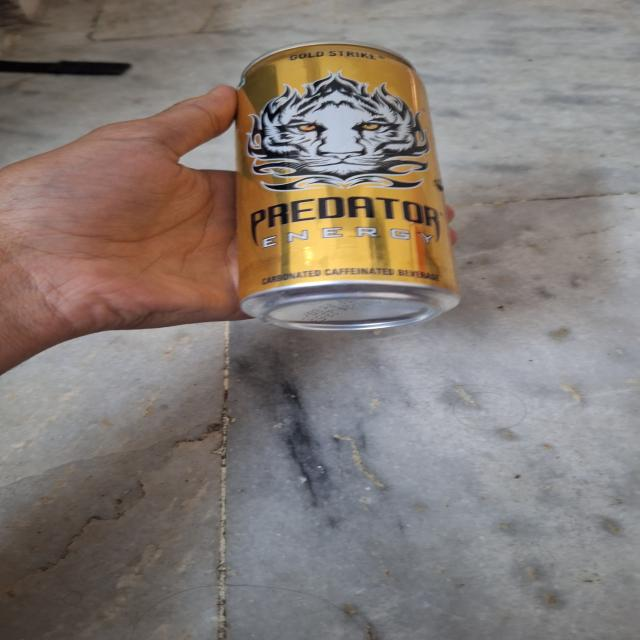Predator: (218, 41, 471, 323)
